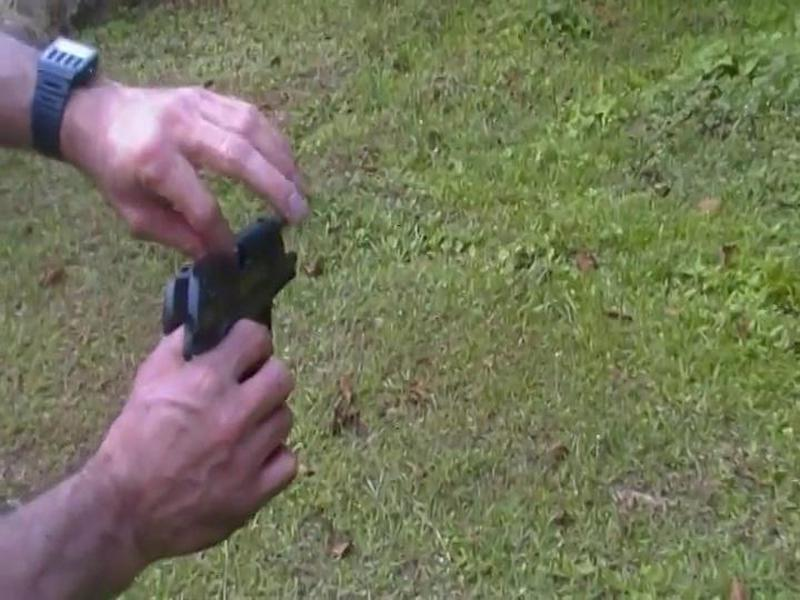Pistola: (151, 199, 319, 408)
